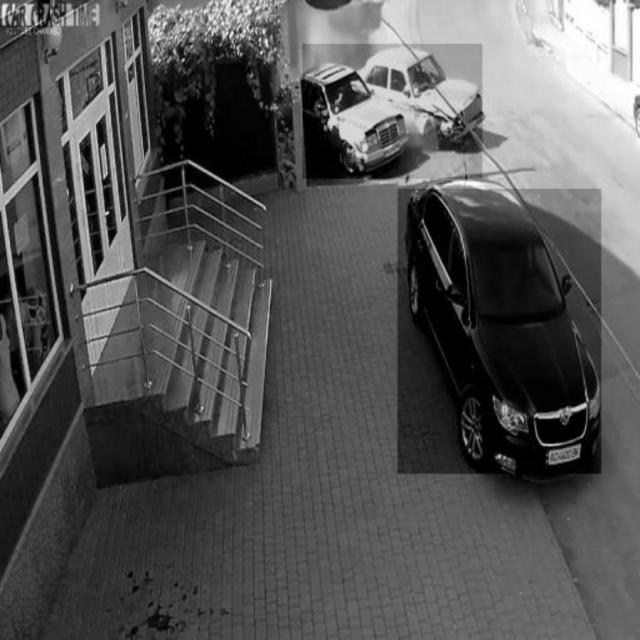accident: (302, 44, 482, 178)
vehicle: (397, 189, 601, 473)
